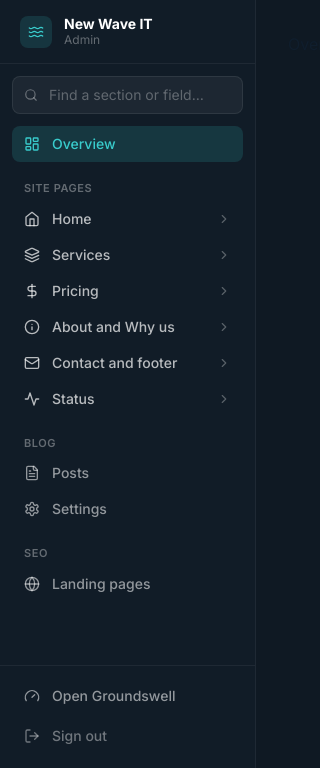
it: AdminLayout sidebar › opens and closes a page, remembering the choice
The width and height of the screenshot is (320, 768).
Step 1. Click the button "Pricing" → (128, 290), box [12,272,243,308]
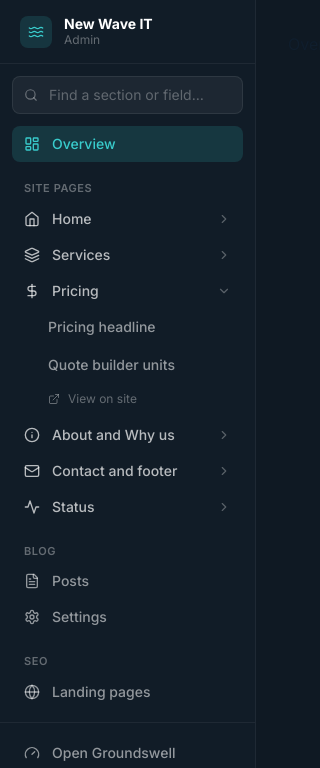
Step 2. Click the button "Pricing" → (128, 290), box [12,272,243,308]
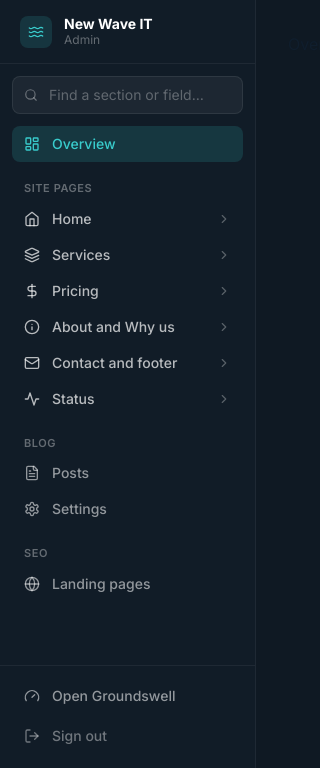
expect the link "Quote builder units" is gone: met
